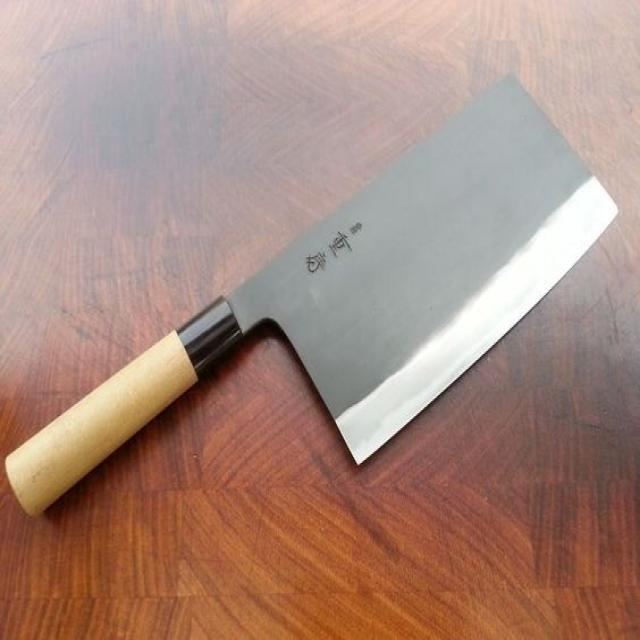cleaver: (3, 68, 620, 556)
